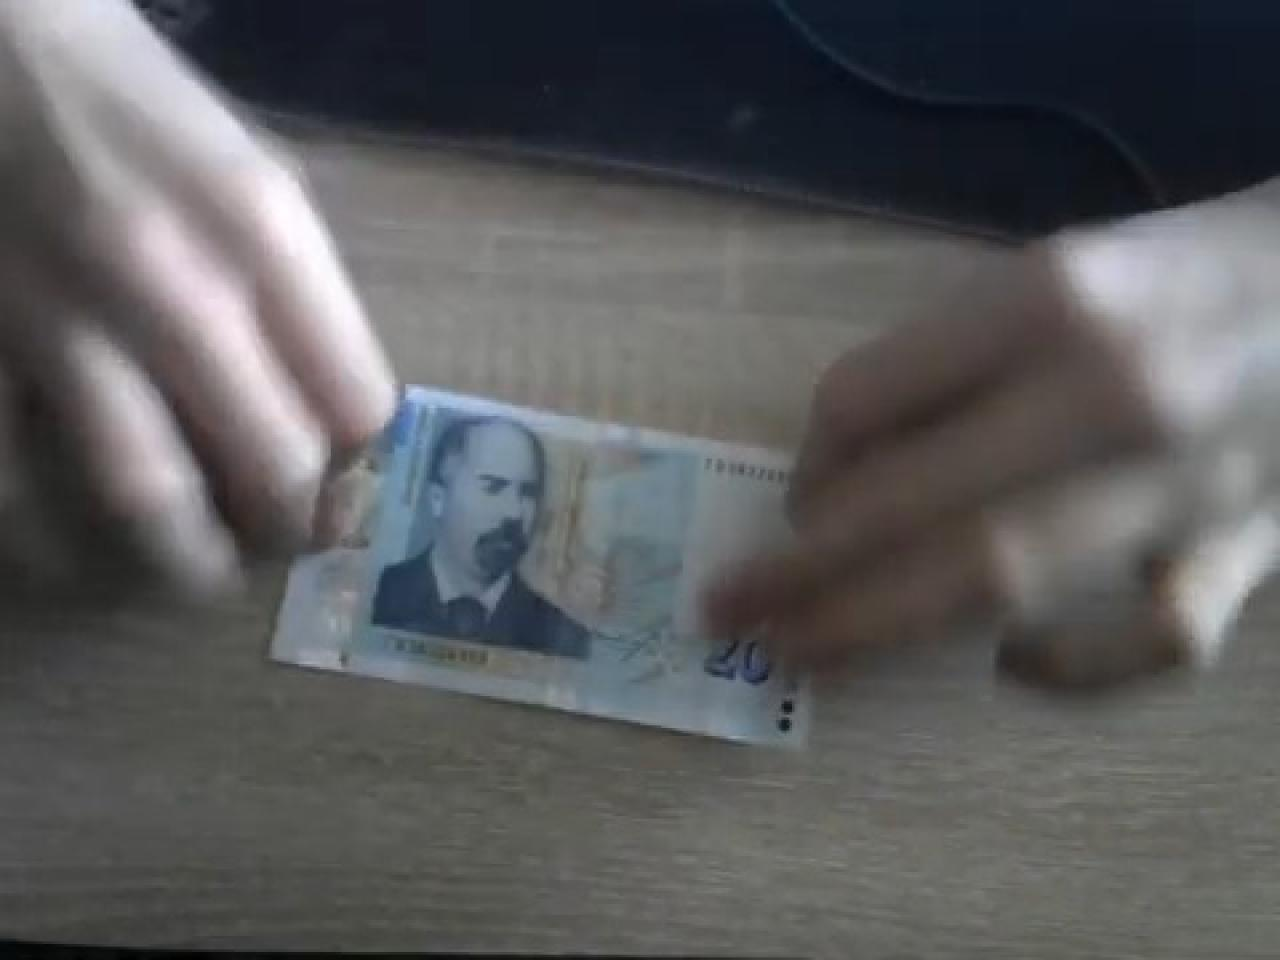20leva: (368, 411, 595, 661)
